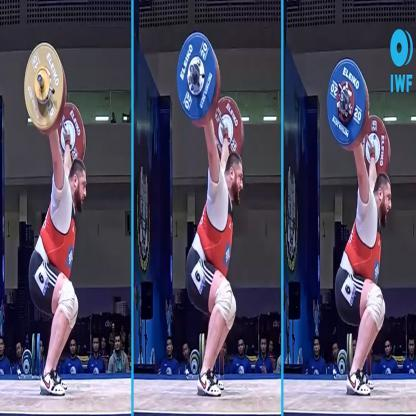Barbell: (340, 90, 348, 107), (190, 61, 197, 79), (37, 73, 44, 88)
